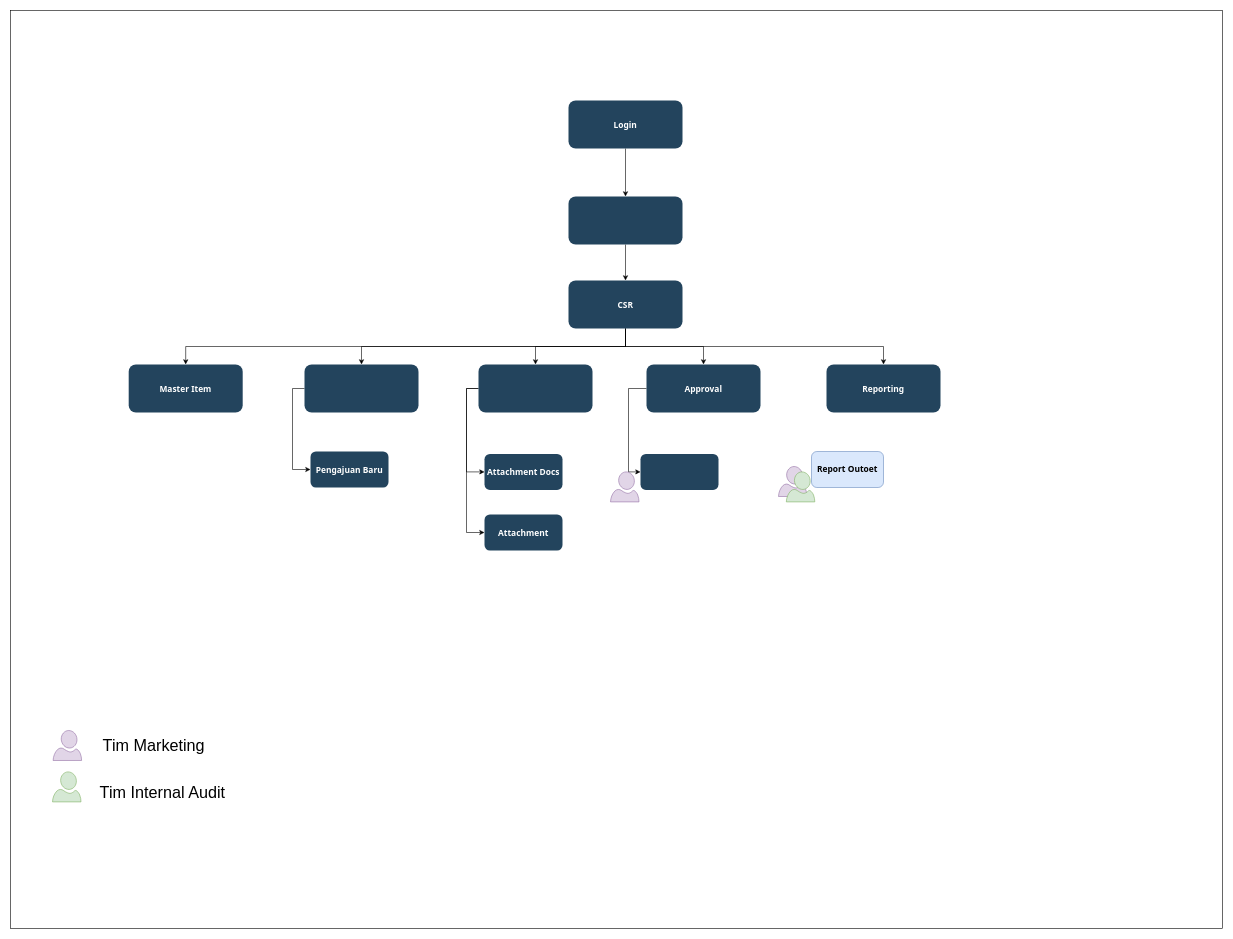
This 1233x939 diagram has some shape labels left out. Each missing label, with the centre of its shape:
"DAP System" goes at (x=625, y=220).
"Detail Pengajuan" goes at (x=535, y=388).
"Finish CSR" goes at (x=679, y=472).
"Pengajuan" goes at (x=361, y=388).
